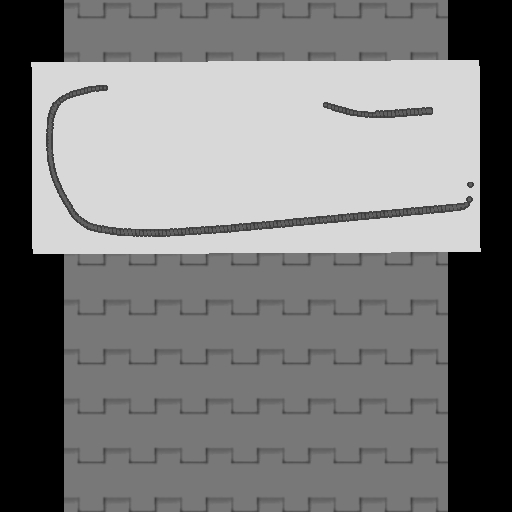Defect: (105, 78, 322, 116)
